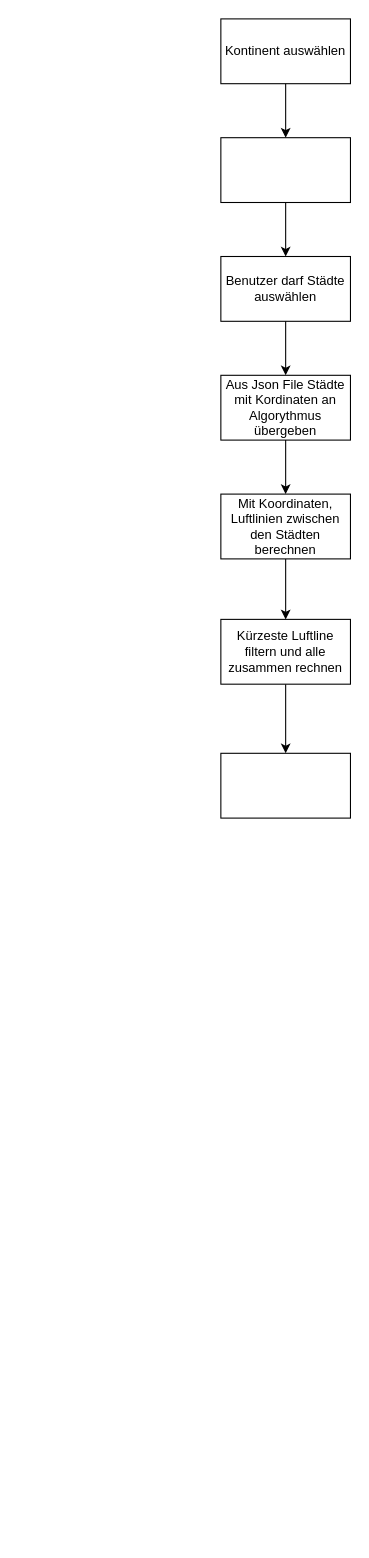
This 369x1558 diagram has some shape labels left out. The shapes that lost their labels are listed below. From the top down, each one's box as (x1, y1, x2, y2) in pixels, then its label:
(220, 137, 350, 202): Städte welche in diesem Kontinent sind printen
(220, 752, 350, 818): Route ausprinten mit Luftlinie
